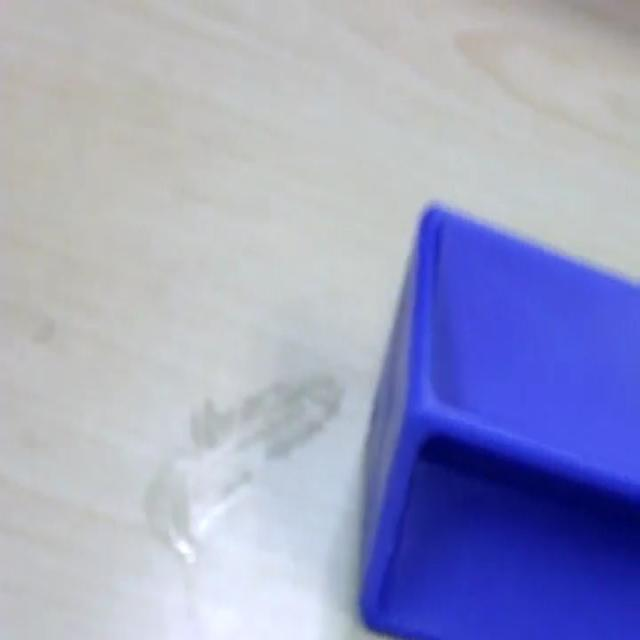blue_block: (357, 198, 639, 638)
